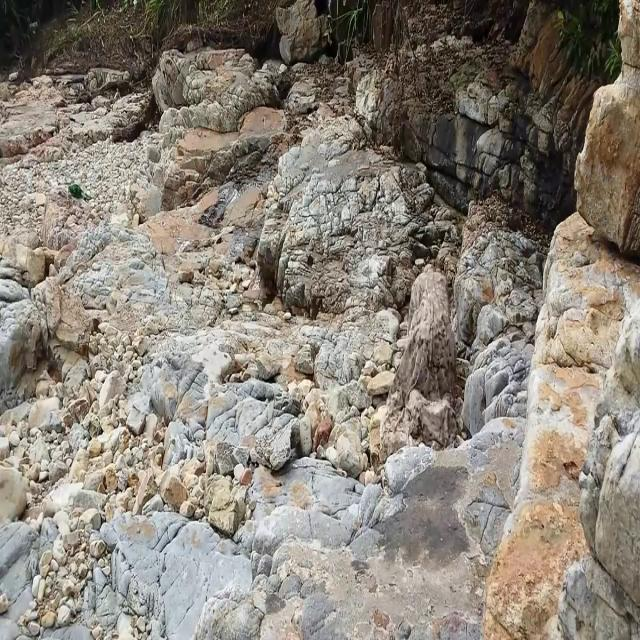Camouflage: (381, 259, 459, 468)
